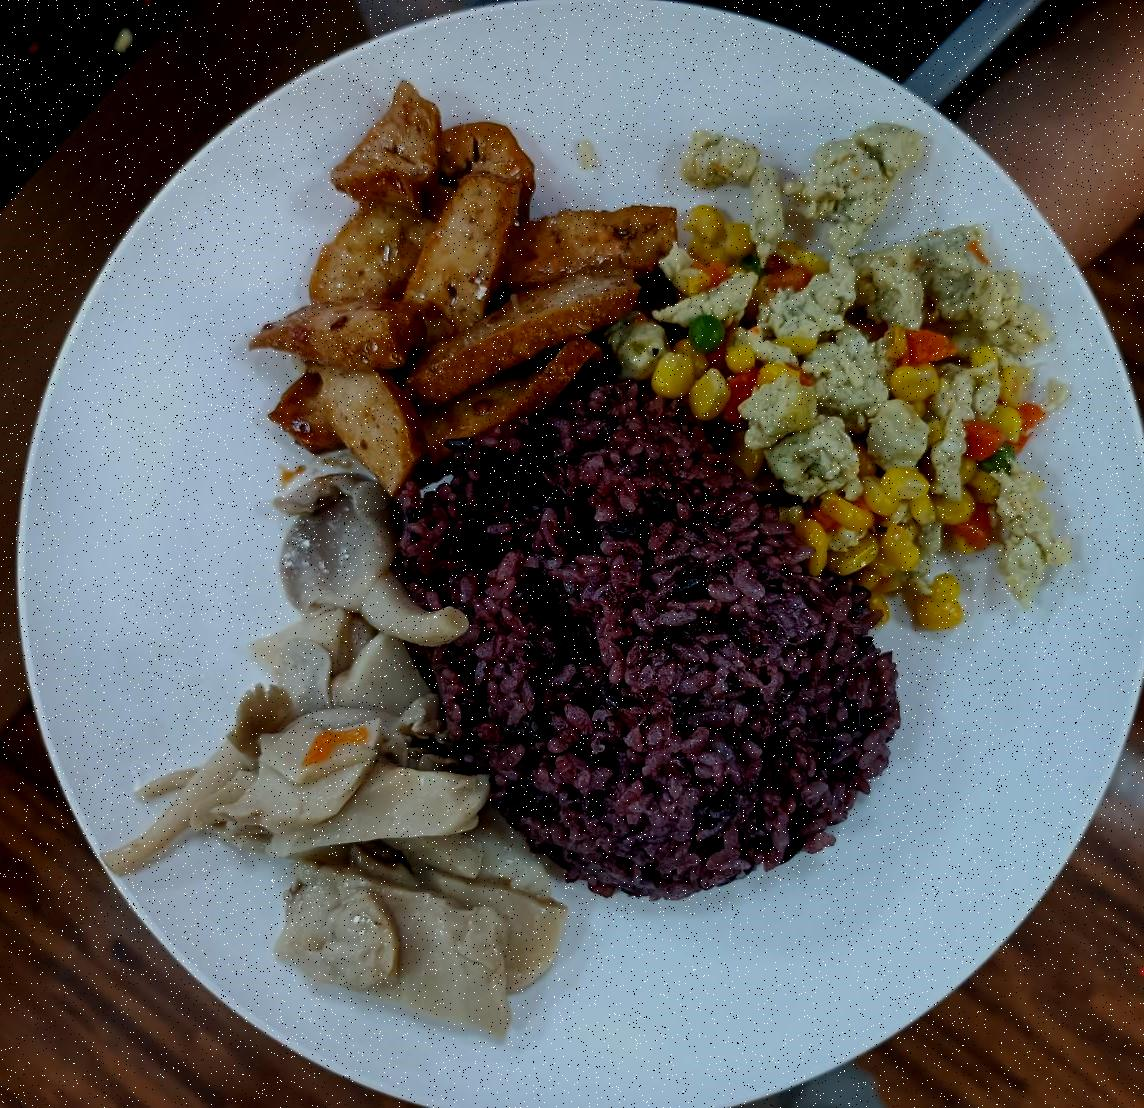big fried chicken leg: (20, 13, 1144, 1104)
braised fish: (434, 410, 873, 883)
braised fish fillet: (680, 141, 1093, 558), (228, 466, 502, 1007), (276, 110, 595, 436)
